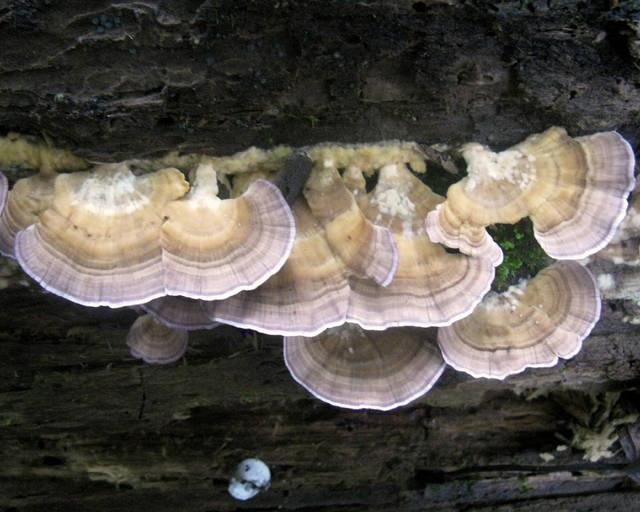Non-edible Mushroom: (9, 123, 636, 413)
